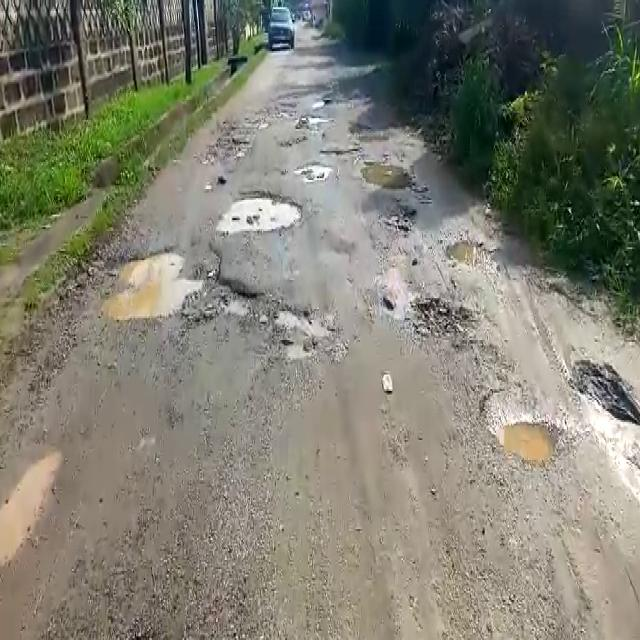Pothole: (91, 242, 233, 322), (0, 450, 64, 571), (569, 357, 640, 427), (488, 416, 563, 471), (221, 190, 305, 236), (410, 293, 486, 341), (273, 306, 336, 363), (362, 160, 419, 193), (444, 236, 496, 270), (294, 159, 335, 179)
